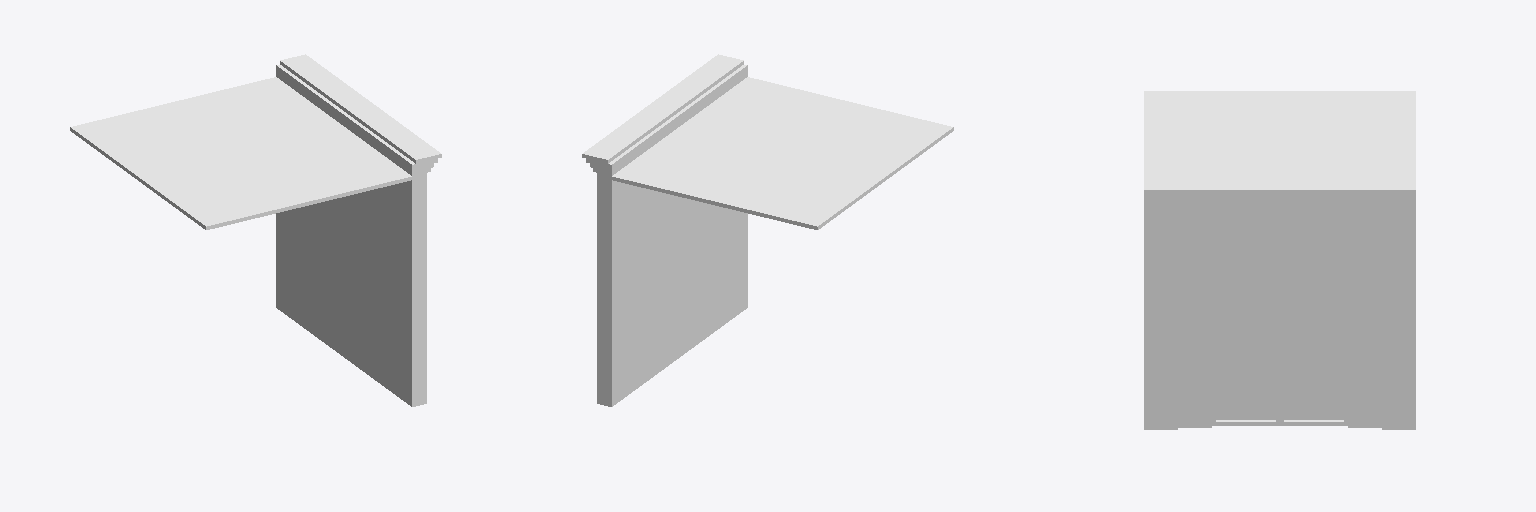
The model's file is old_brick_peach_wall_t.obj.
The picture shows the model from 3 angles: view 1: azimuth 30°, elevation 25°; view 2: azimuth 150°, elevation 25°; view 3: azimuth 270°, elevation 25°; orthographic projection.
Bounding box in the file's own units: 64 × 64 × 64.